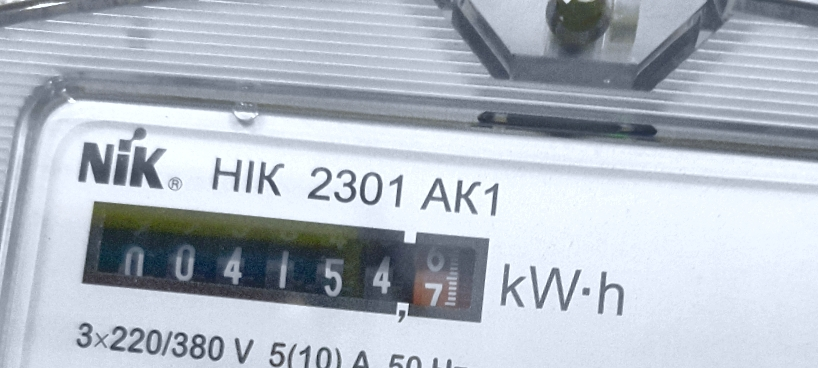0: (170, 240, 197, 283), (120, 240, 146, 277)
1: (274, 247, 292, 290)
4: (219, 243, 246, 287), (369, 250, 394, 296)
5: (318, 252, 347, 298)
6: (423, 242, 448, 273)
7: (419, 278, 443, 308)
screen: (64, 180, 507, 341)
